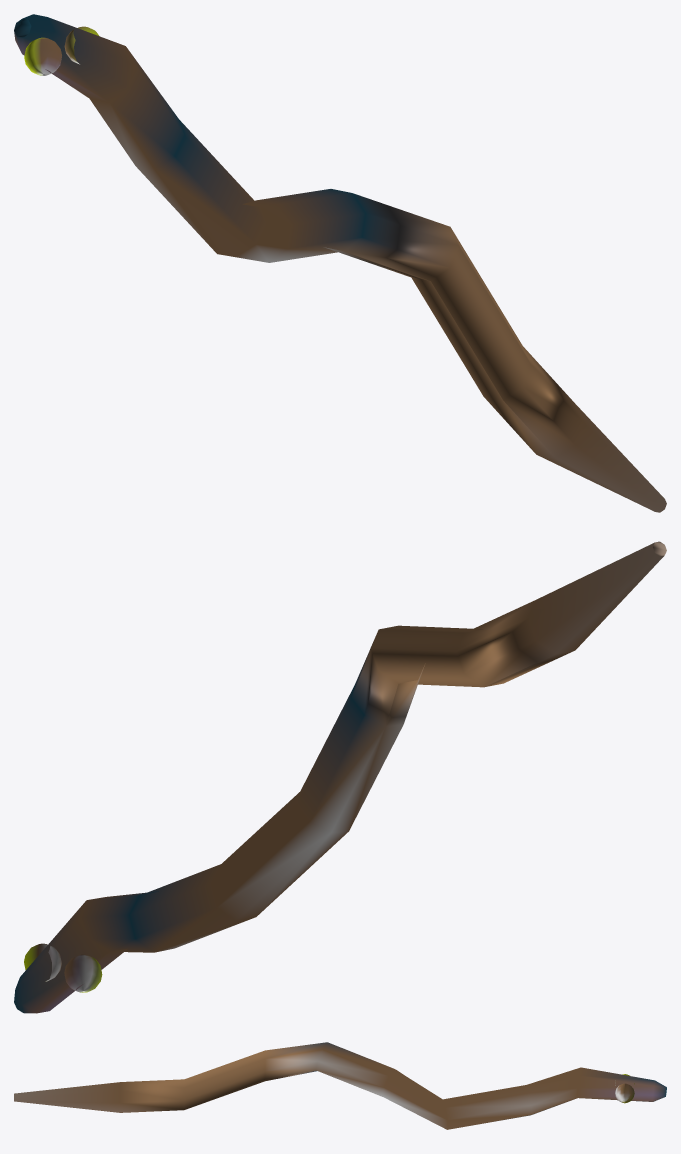
File: eel.glb
3 views of the same model, one above another, from view 1: azimuth 30°, elevation 25°; view 2: azimuth 150°, elevation 25°; view 3: azimuth 270°, elevation 25° (orthographic). The views are drawn at different scales.
Visible parts, largest first — view 1: Cylinder; view 2: Cylinder; view 3: Cylinder.
Part boxes in pixels (x1,y1,x2,y2): Cylinder: (14,14,666,512); Cylinder: (14,541,666,1013); Cylinder: (14,1042,666,1129).
Size of the model in its own units: 0.574 by 0.4357 by 3.13.
